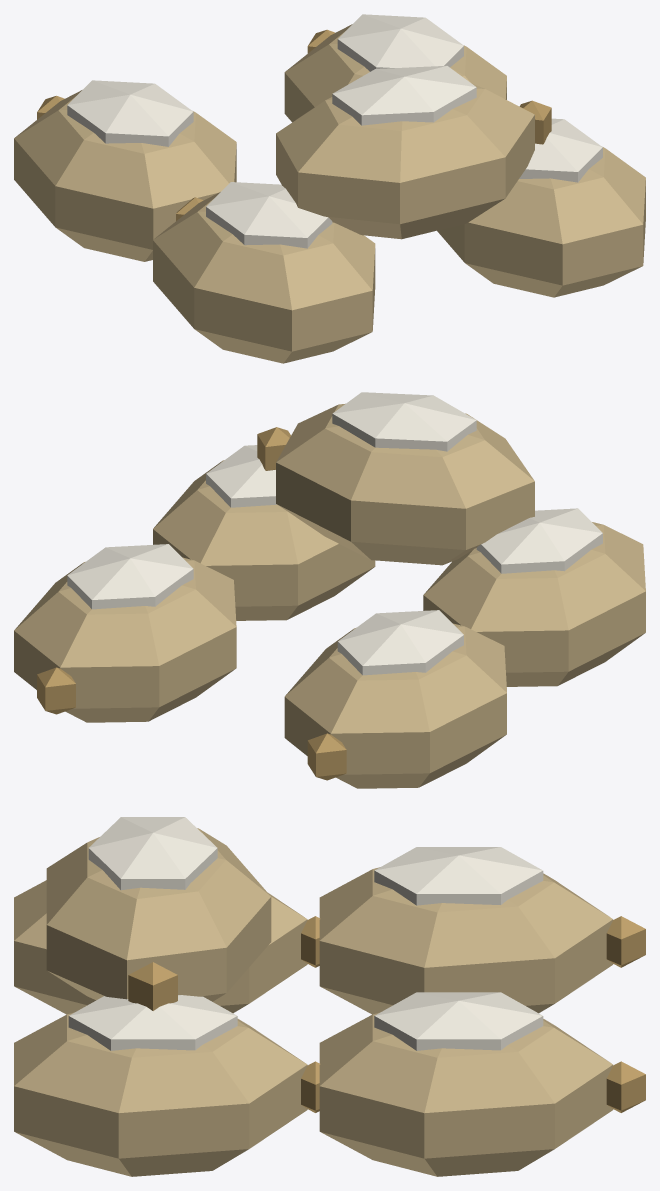
Rendered from pile_flour_2.glb.
The picture shows the model from 3 angles, top to bottom: view 1: azimuth 30°, elevation 25°; view 2: azimuth 150°, elevation 25°; view 3: azimuth 270°, elevation 25°; orthographic projection. The views are drawn at different scales.
Visible parts, largest first — view 1: pile_flour_2; view 2: pile_flour_2; view 3: pile_flour_2.
Boxes of the visible parts, x1,y1,x2,y2 form: pile_flour_2: (14,14,645,363); pile_flour_2: (14,392,645,788); pile_flour_2: (14,817,645,1176).
Bounding box in the file's own units: 1.2 × 0.59 × 1.32.
